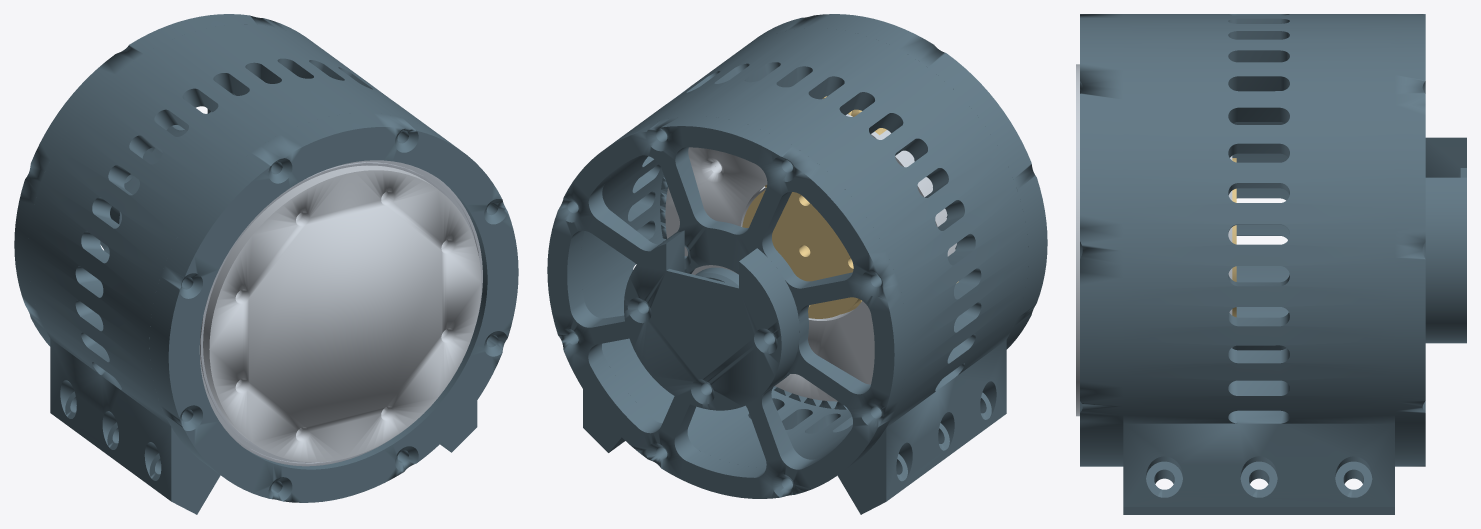
File: OpenTorque_LOD1.fbx
The picture shows the model from 3 angles, left to right: view 1: azimuth 30°, elevation 25°; view 2: azimuth 150°, elevation 25°; view 3: azimuth 270°, elevation 25°; orthographic projection. The views are drawn at different scales.
Parts seen in each view (by area): view 1: MM_OpenTorque_overview_housing, MM_OpenTorque_overview_carrier; view 2: MM_OpenTorque_overview_housing, MM_OpenTorque_overview_encoder, MM_OpenTorque_overview_carrier, MM_OpenTorque_overview_sun; view 3: MM_OpenTorque_overview_housing, MM_OpenTorque_overview_encoder, MM_OpenTorque_overview_carrier.
Part boxes in pixels (bbox=[...]): MM_OpenTorque_overview_housing: bbox=[14, 14, 518, 514]; MM_OpenTorque_overview_carrier: bbox=[199, 160, 482, 466]; MM_OpenTorque_overview_housing: bbox=[547, 14, 1047, 514]; MM_OpenTorque_overview_encoder: bbox=[624, 230, 799, 410]; MM_OpenTorque_overview_carrier: bbox=[665, 114, 956, 401]; MM_OpenTorque_overview_sun: bbox=[742, 189, 860, 318]; MM_OpenTorque_overview_housing: bbox=[1080, 14, 1425, 514]; MM_OpenTorque_overview_encoder: bbox=[1425, 137, 1466, 343]; MM_OpenTorque_overview_carrier: bbox=[1076, 64, 1232, 416].
Size of the model in its own units: 0.11 by 0.11 by 0.095.
